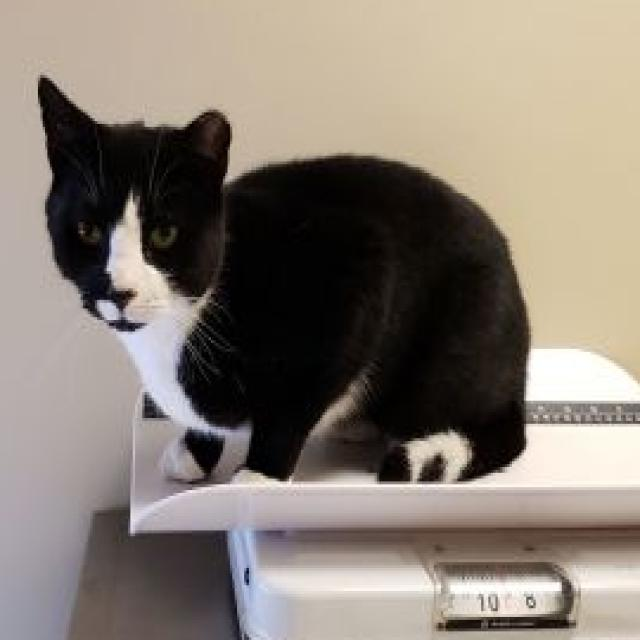Tuxedo: (36, 72, 533, 490)
